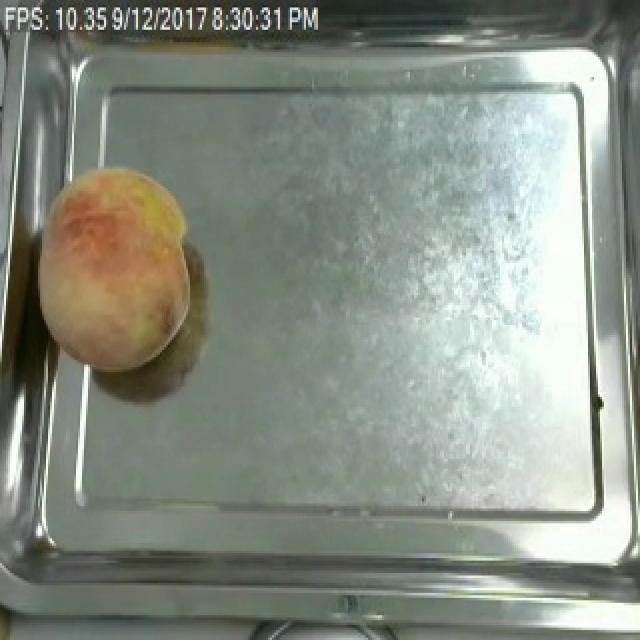Fruit: (22, 154, 202, 382)
